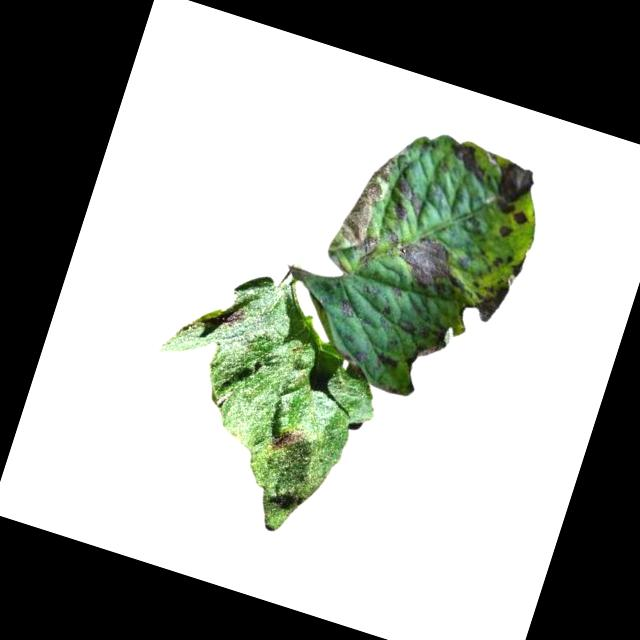Early_blight: (326, 143, 406, 268), (384, 228, 470, 302), (483, 158, 537, 221), (464, 269, 512, 326), (440, 137, 493, 185), (388, 174, 430, 226), (263, 420, 306, 462), (492, 249, 528, 280), (219, 304, 247, 332), (373, 350, 402, 372), (334, 296, 355, 319), (495, 223, 514, 241), (510, 209, 528, 228)
